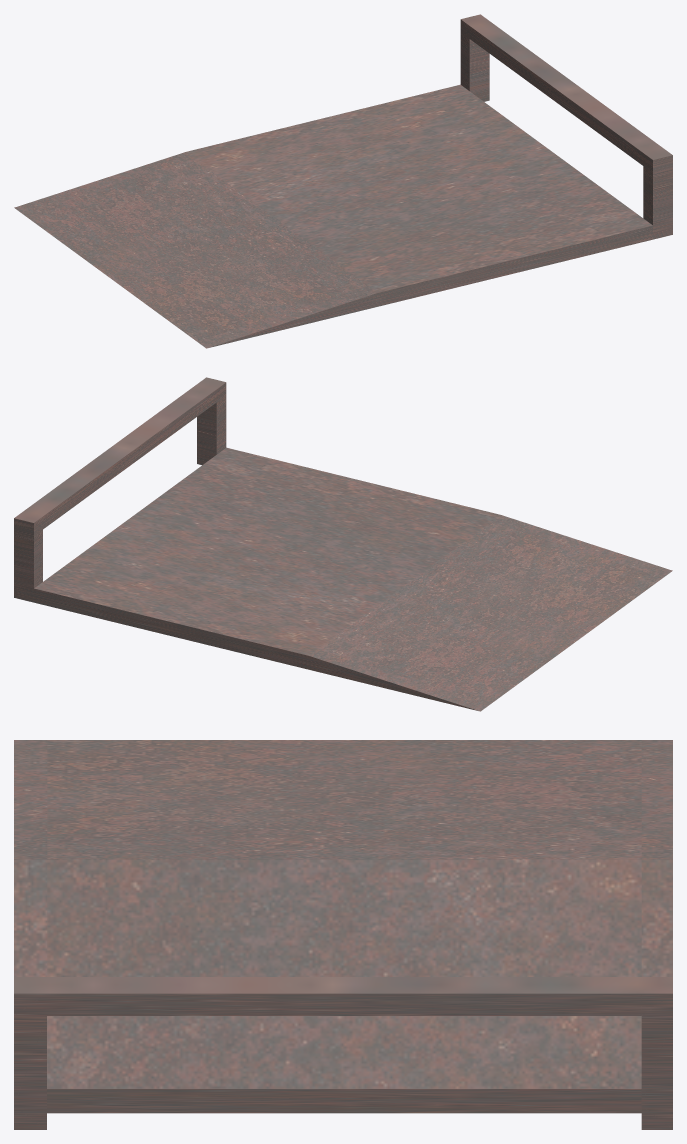
File: Plataforma de metal.glb
3 renders of one model, top to bottom at view 1: azimuth 30°, elevation 25°; view 2: azimuth 150°, elevation 25°; view 3: azimuth 270°, elevation 25°, orthographic. The views are drawn at different scales.
Visible parts, largest first — view 1: Cube.023; view 2: Cube.023; view 3: Cube.023.
Part boxes in pixels (x1=…): Cube.023: x1=14, y1=14, x2=672, y2=348; Cube.023: x1=14, y1=377, x2=672, y2=711; Cube.023: x1=14, y1=740, x2=672, y2=1129.
Size of the model in its own units: 26.98 by 4.4 by 19.28.
1 material, 1 textured.
